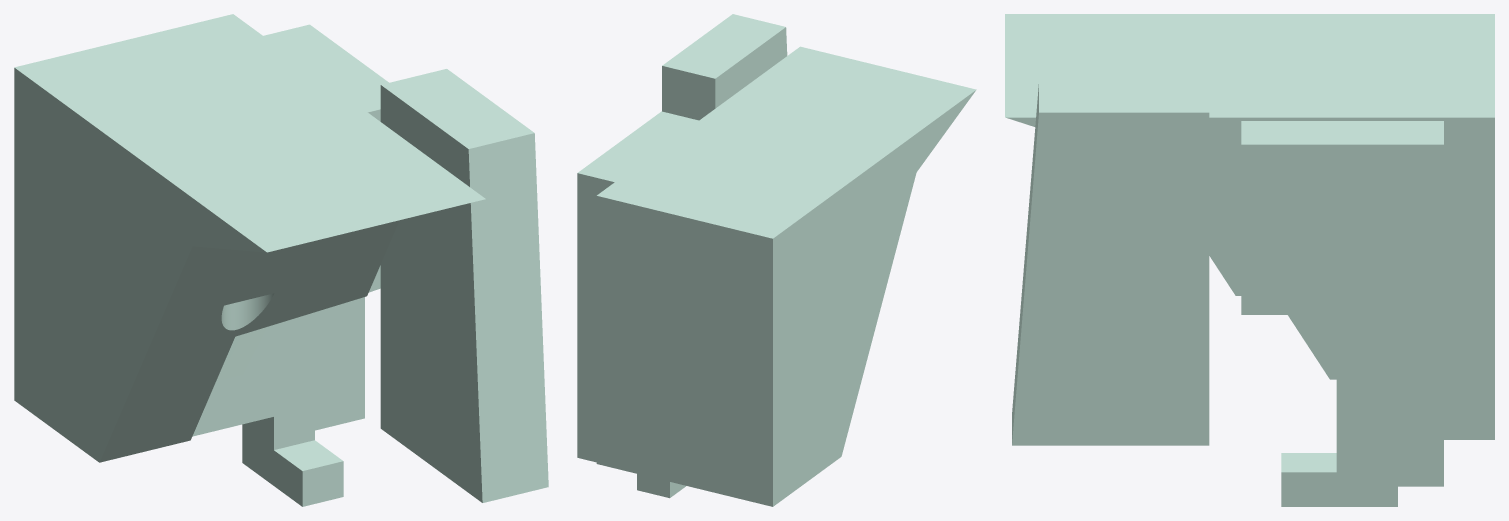
The picture shows the model from 3 angles, left to right: view 1: azimuth 30°, elevation 25°; view 2: azimuth 150°, elevation 25°; view 3: azimuth 270°, elevation 25°; orthographic projection. The views are drawn at different scales.
Visible parts, largest first — view 1: Renderer Node; view 2: Renderer Node; view 3: Renderer Node.
Boxes of the visible parts, x1,y1,x2,y2 form: Renderer Node: (14,14,548,506); Renderer Node: (577,14,976,506); Renderer Node: (1005,14,1494,506).
Bounding box in the file's own units: 0.9766 × 1.44 × 1.5.
